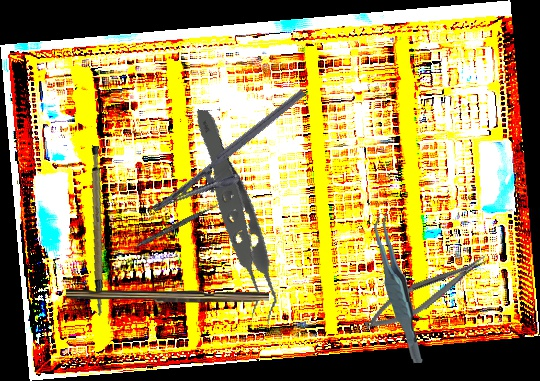Needle Holder: (150, 88, 323, 234), (358, 249, 495, 338)
Scalpel Handle: (69, 145, 123, 316), (66, 289, 269, 305)
Spatula Surgical: (116, 200, 220, 260)
Tissue Forceps: (151, 108, 315, 332), (373, 211, 423, 365)
